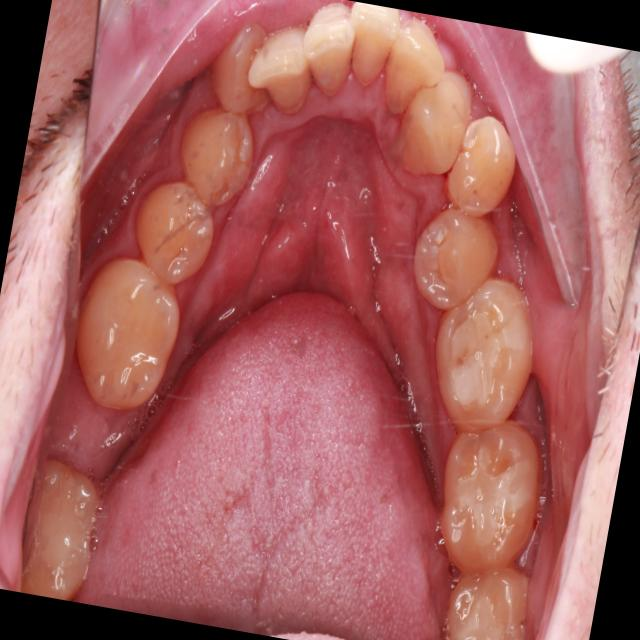tooth: (412, 256, 561, 459), (62, 232, 198, 436), (421, 406, 557, 597), (4, 440, 117, 605), (160, 96, 290, 235), (380, 44, 491, 200), (118, 159, 235, 305), (398, 192, 519, 329), (276, 0, 374, 133), (199, 6, 299, 136), (370, 8, 465, 141), (438, 106, 528, 237), (234, 19, 328, 135), (430, 552, 546, 640), (330, 0, 412, 110)
